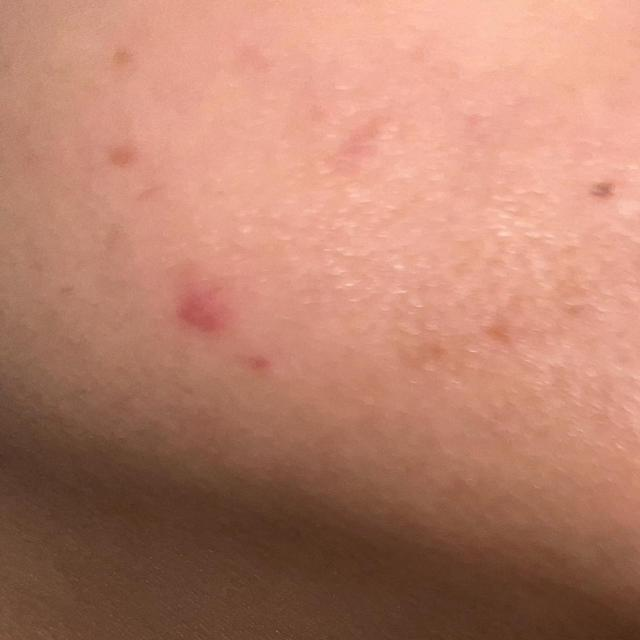papule: (111, 257, 278, 351)
